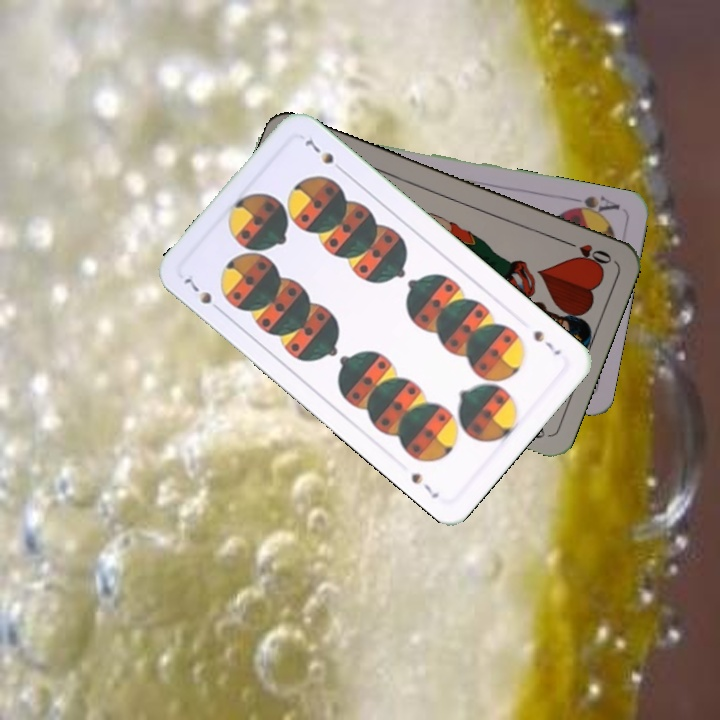HO: (559, 236, 615, 269)
S7: (177, 270, 226, 316), (529, 326, 564, 358)
SA: (563, 192, 622, 221)
